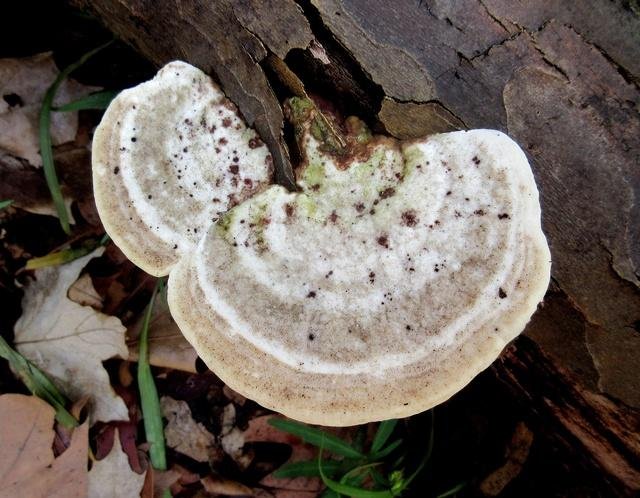poisonous_mushroom: (89, 51, 554, 426)
